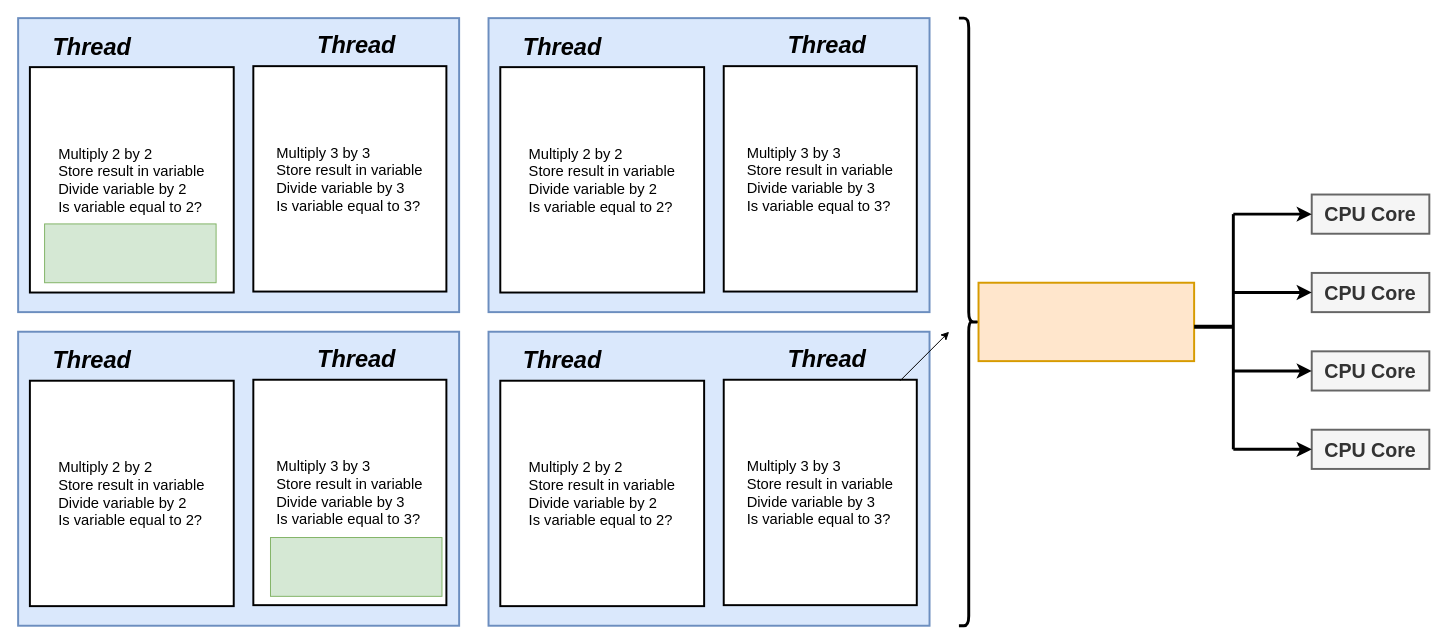
Image size: 1446x644. Some labels were removed from this diagram. The centre of each missing label's shape, as x and y in pixels:
"Get keyboard precess to appear" goes at [356,566].
"Gets mouse to move around the screen" goes at [130,253].
"OS Scheduler" goes at [1086,321].
